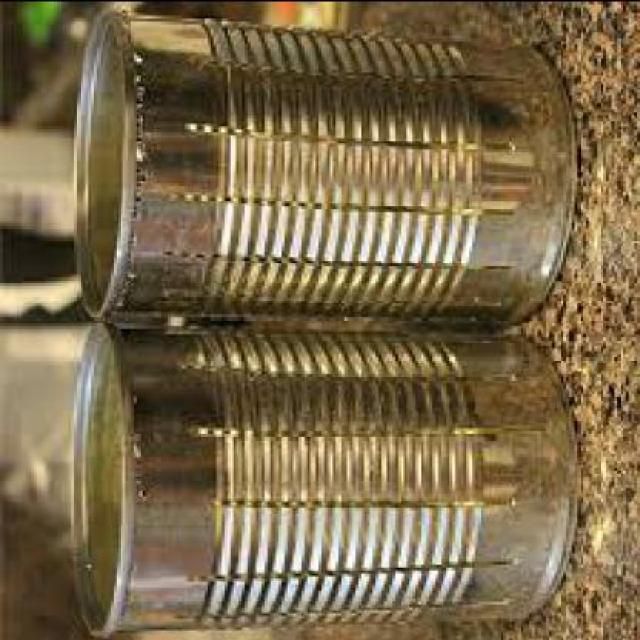METAL: (74, 1, 575, 322), (71, 318, 572, 634)
